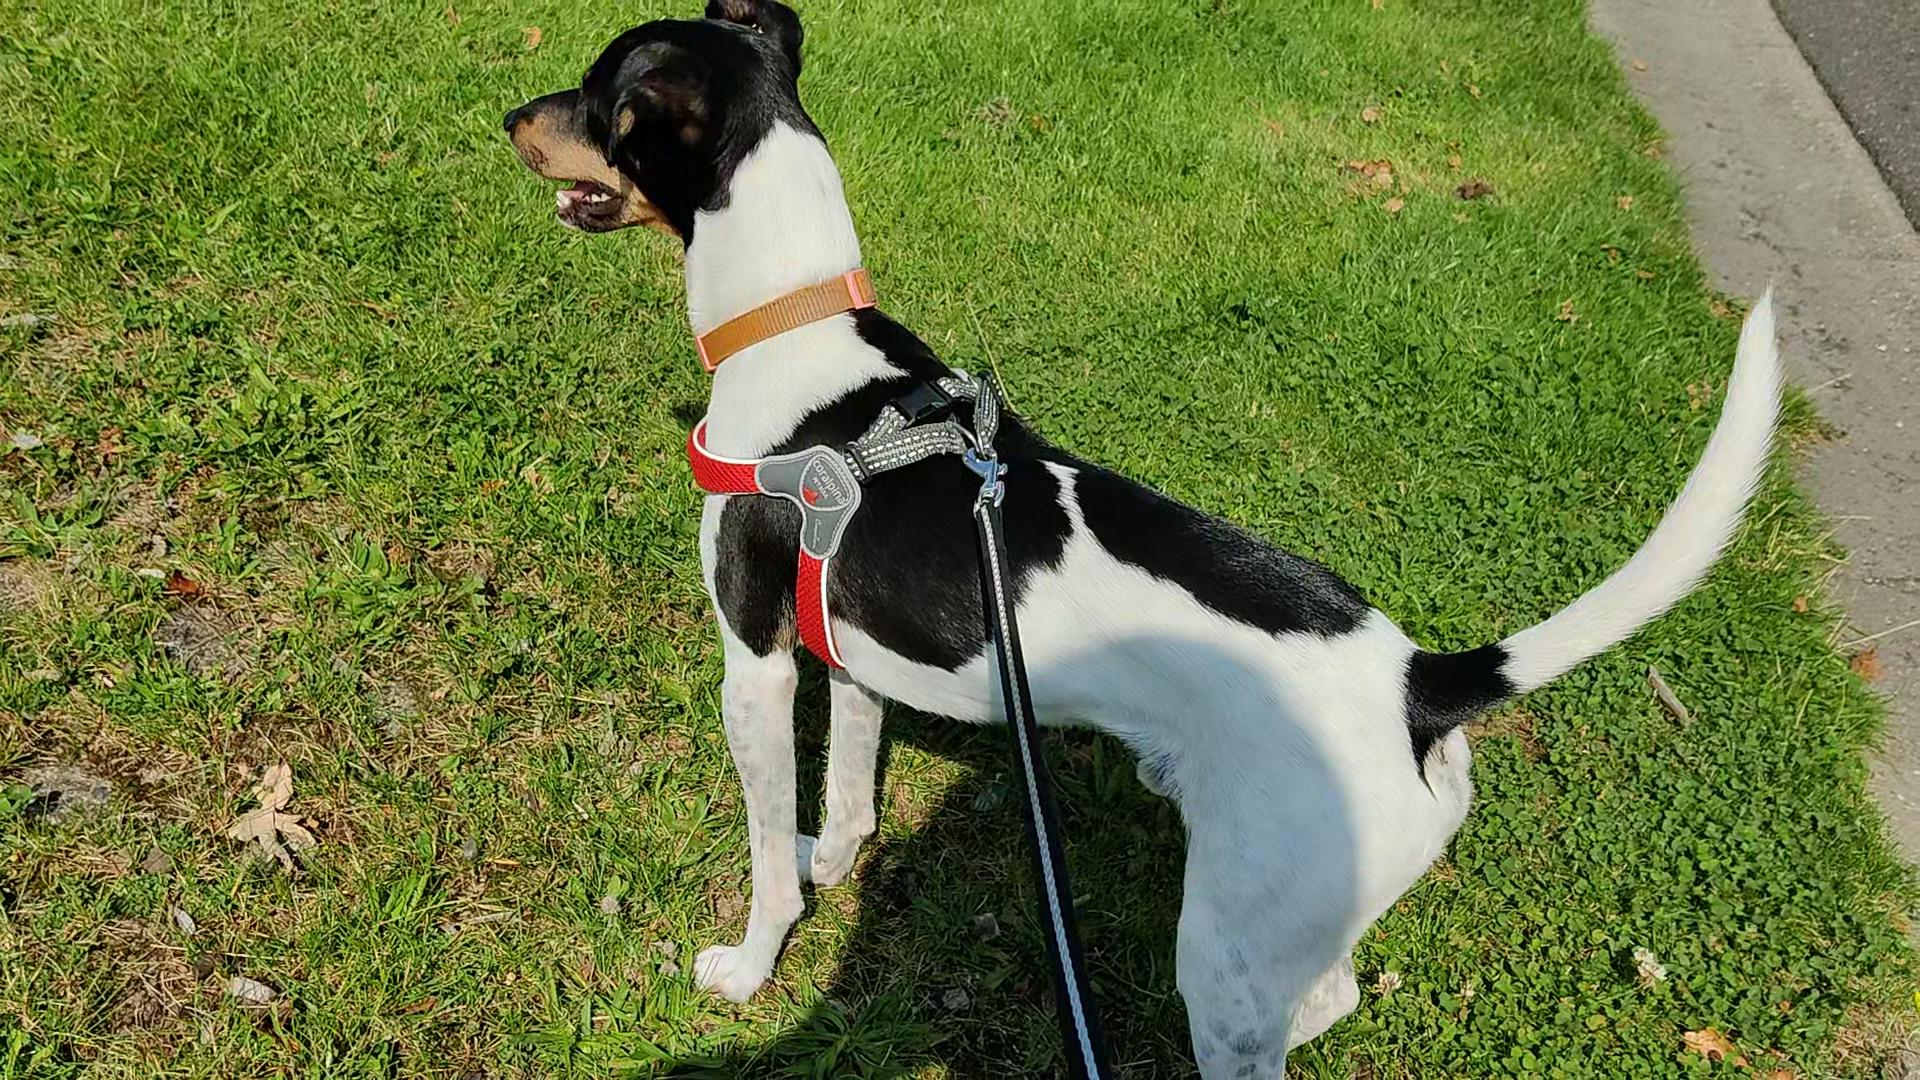Dog: (496, 0, 1793, 1079)
